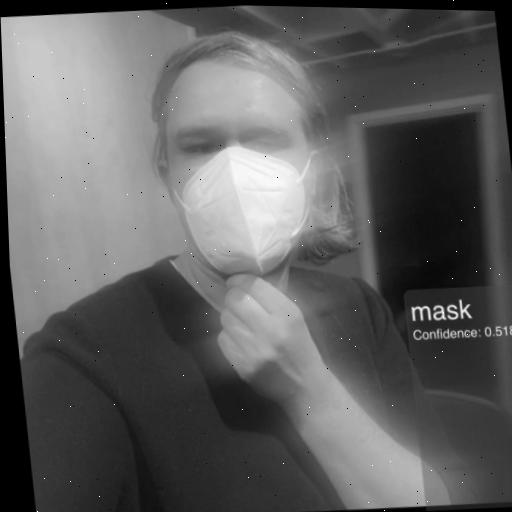mask: (133, 31, 344, 288)
